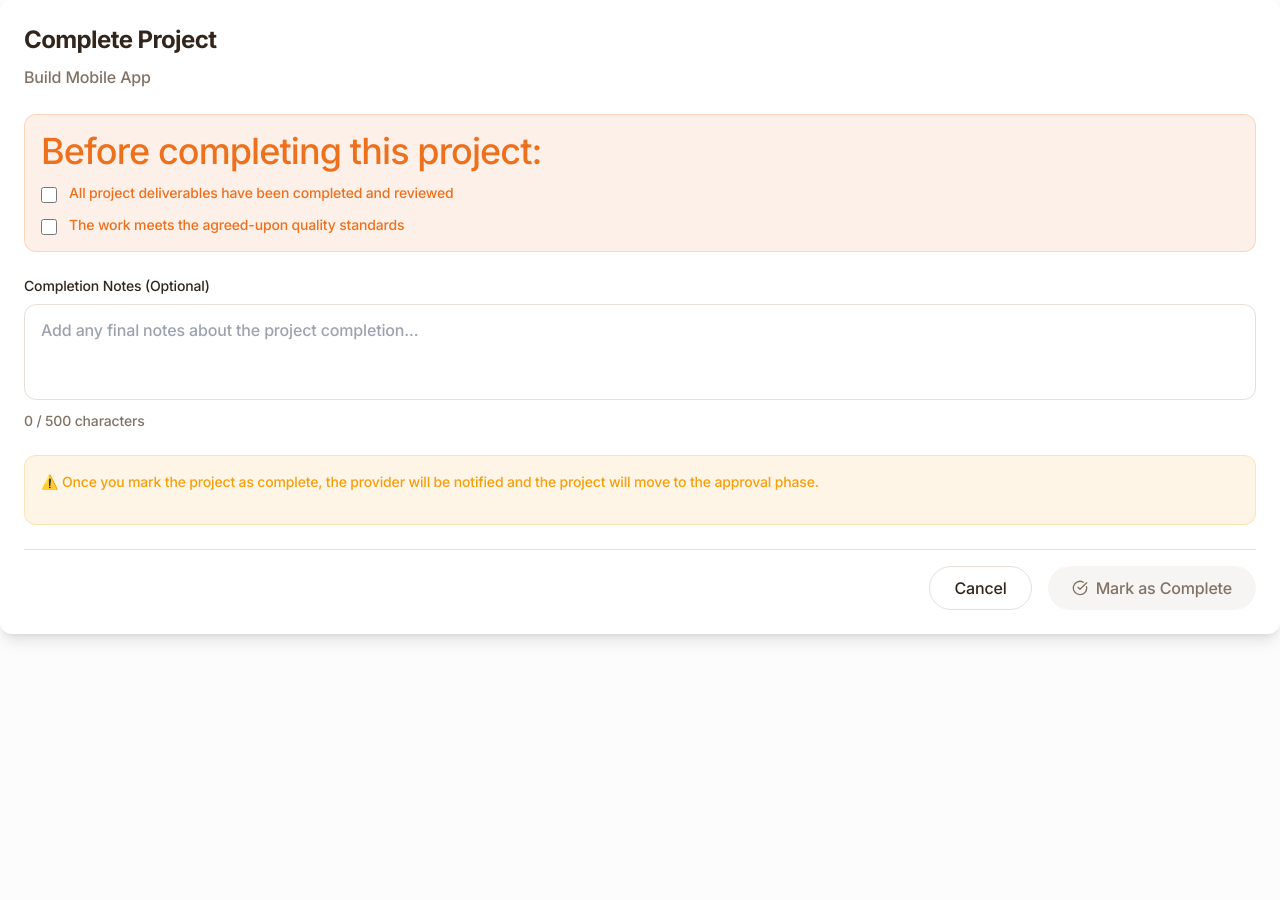
Test case: ProjectCompletionForm › Checkbox Functionality › should enable submit button when both checkboxes are checked
This screenshot has width=1280, height=900.
Step 1. Click the checkbox labelled "All project deliverables have been completed and reviewed" → [49, 195], box [41, 187, 57, 203]
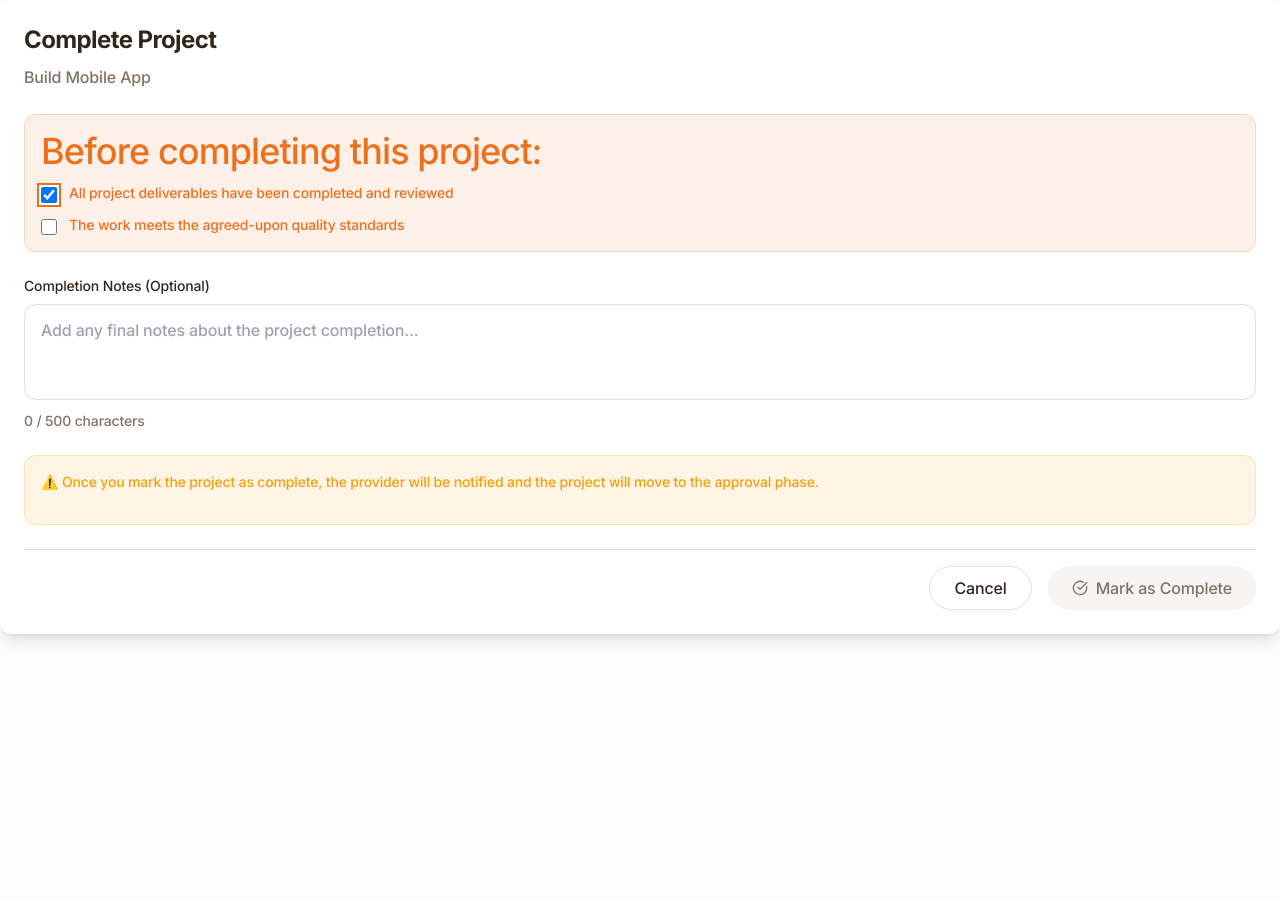
Step 2. Click the checkbox labelled "The work meets the agreed-upon quality standards" → [49, 227], box [41, 219, 57, 235]
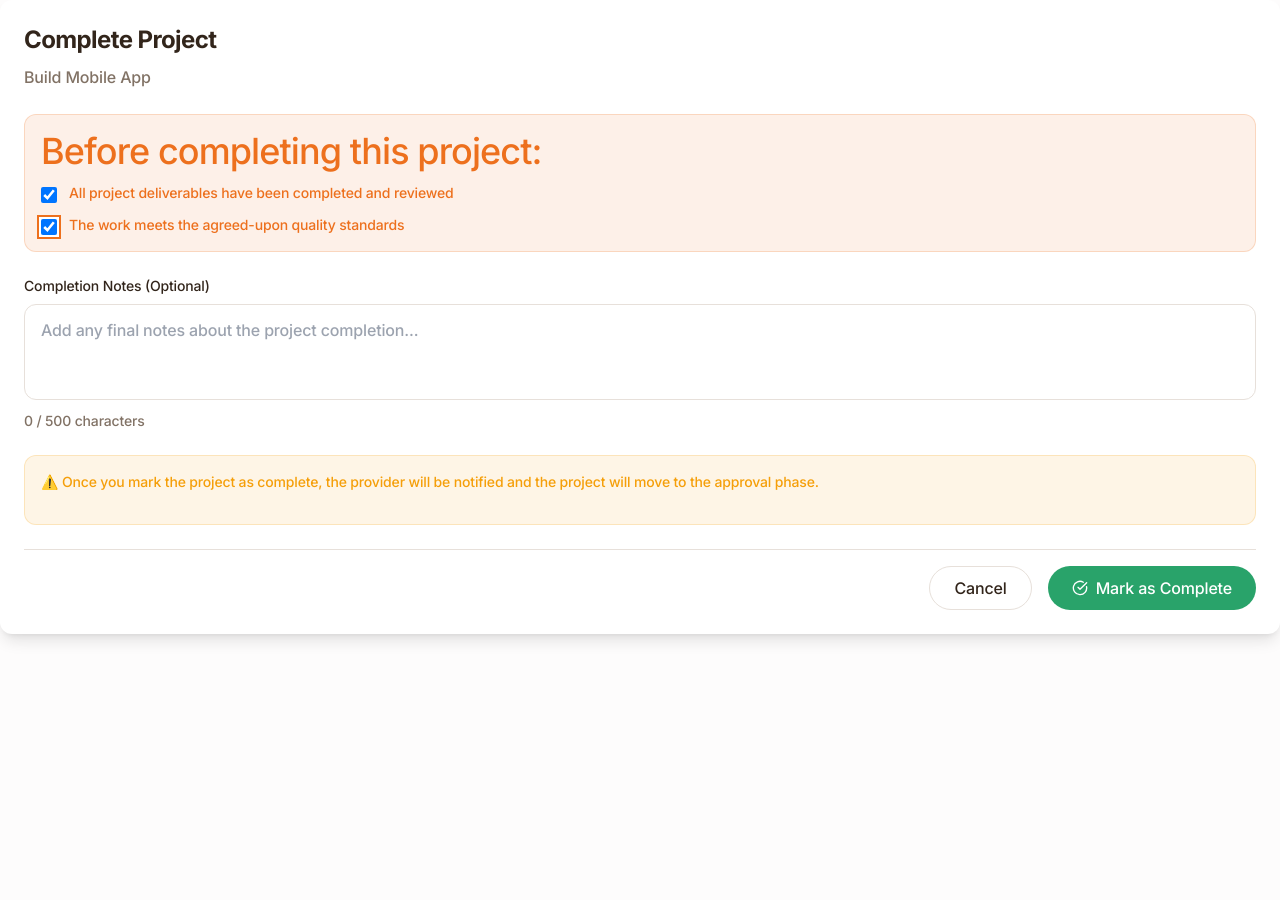
Expected: the button with test id "complete-project-button" is enabled, [1048, 566, 1256, 610]
